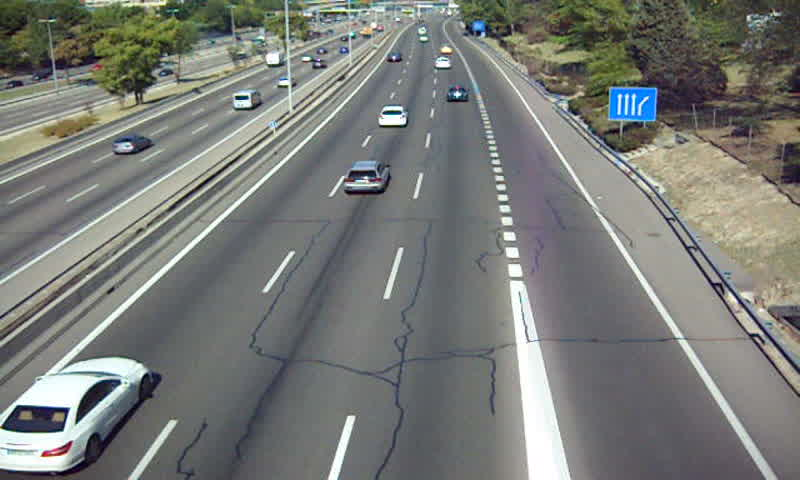car: (1, 356, 152, 471), (343, 162, 389, 194), (378, 105, 409, 126), (447, 86, 468, 104)
